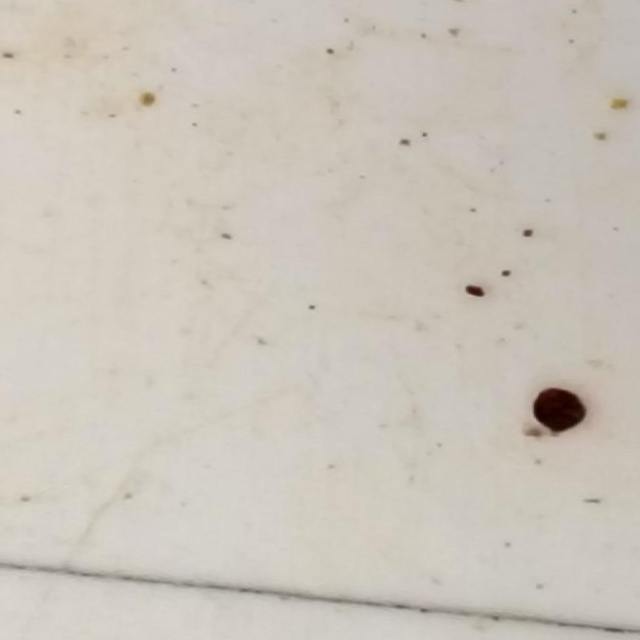varroa: (529, 384, 587, 435)
